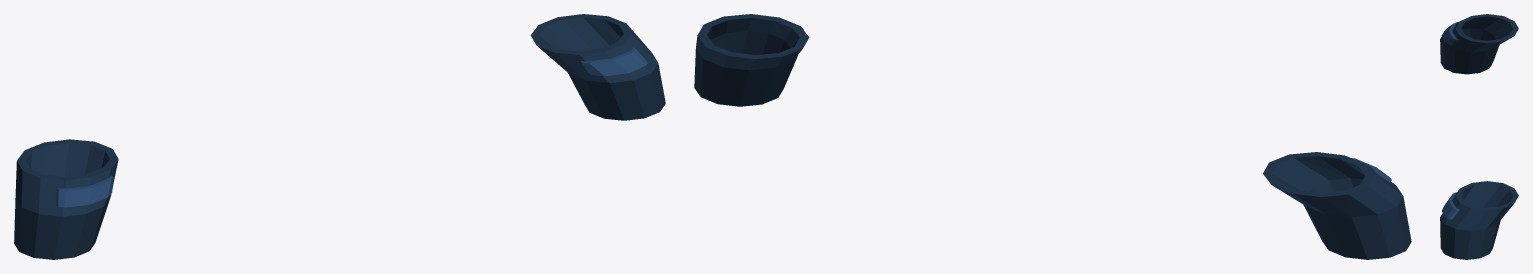
Rendered from cloth_wrists-female.glb.
The picture shows the model from 3 angles, left to right: view 1: azimuth 30°, elevation 25°; view 2: azimuth 150°, elevation 25°; view 3: azimuth 270°, elevation 25°; orthographic projection. The views are drawn at different scales.
Visible parts, largest first — view 1: cloth wrist guard -1, cloth wrist guard 1, Bracer rolled upper lip -1, Bracer rolled upper lip 1; view 2: cloth wrist guard -1, cloth wrist guard 1; view 3: cloth wrist guard 1, cloth wrist guard -1, Bracer rolled upper lip 1, Bracer rolled upper lip -1.
Boxes of the visible parts, left/top/right/bottom form: cloth wrist guard -1: left=14, top=139, right=118, bottom=259; cloth wrist guard 1: left=530, top=14, right=665, bottom=120; Bracer rolled upper lip -1: left=55, top=175, right=113, bottom=207; Bracer rolled upper lip 1: left=580, top=47, right=647, bottom=76; cloth wrist guard -1: left=1263, top=152, right=1411, bottom=259; cloth wrist guard 1: left=694, top=14, right=809, bottom=106; cloth wrist guard 1: left=1440, top=181, right=1518, bottom=259; cloth wrist guard -1: left=1440, top=14, right=1518, bottom=74; Bracer rolled upper lip 1: left=1442, top=192, right=1459, bottom=219; Bracer rolled upper lip -1: left=1441, top=22, right=1458, bottom=45.
Size of the model in its own units: 3.78 by 0.3667 by 0.6029.
